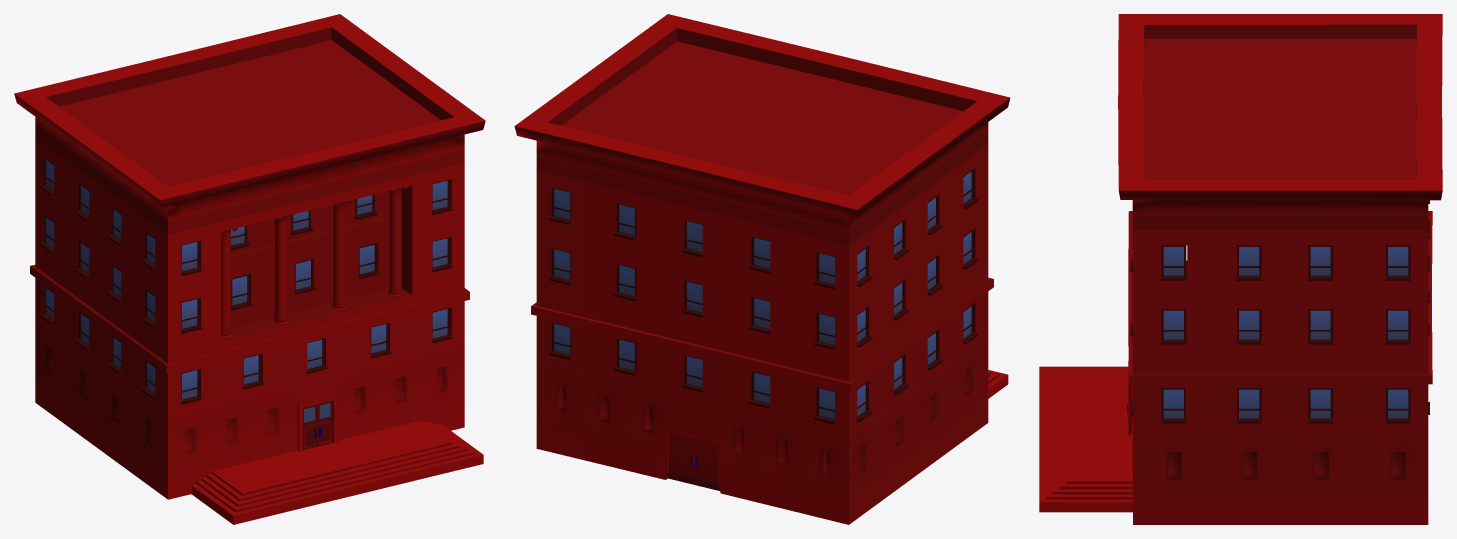
The model's file is Mesh.Bank.fbx.
3 renders of one model, left to right at view 1: azimuth 30°, elevation 25°; view 2: azimuth 150°, elevation 25°; view 3: azimuth 270°, elevation 25°, orthographic. The views are drawn at different scales.
Parts seen in each view (by area): view 1: base.080, windowRefl.062; view 2: base.080, windowRefl.062; view 3: base.080, windowRefl.062.
Boxes of the visible parts, x1=… form: base.080: x1=14, y1=14, x2=485, y2=524; windowRefl.062: x1=46, y1=160, x2=447, y2=422; base.080: x1=514, y1=14, x2=1010, y2=524; windowRefl.062: x1=554, y1=171, x2=971, y2=419; base.080: x1=1039, y1=14, x2=1442, y2=524; windowRefl.062: x1=1163, y1=247, x2=1408, y2=418.
Bounding box in the file's own units: 2441 × 2531 × 2284.
